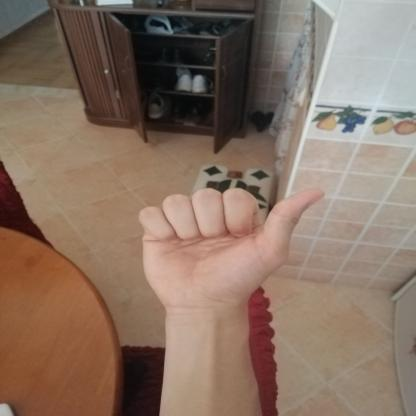DAD: (122, 176, 335, 324)
